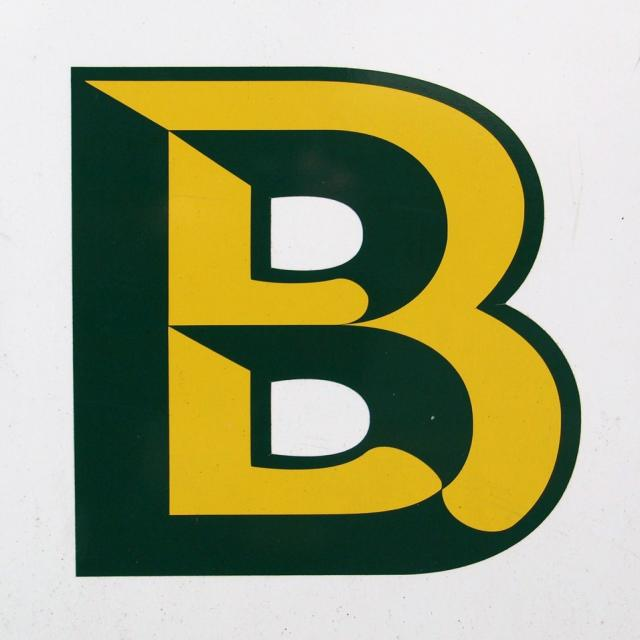B: (54, 50, 597, 613)
